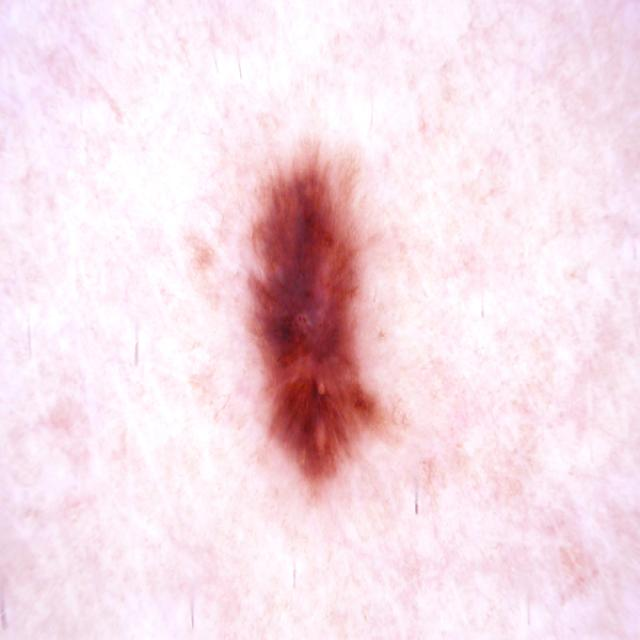NV: (240, 139, 398, 501)
